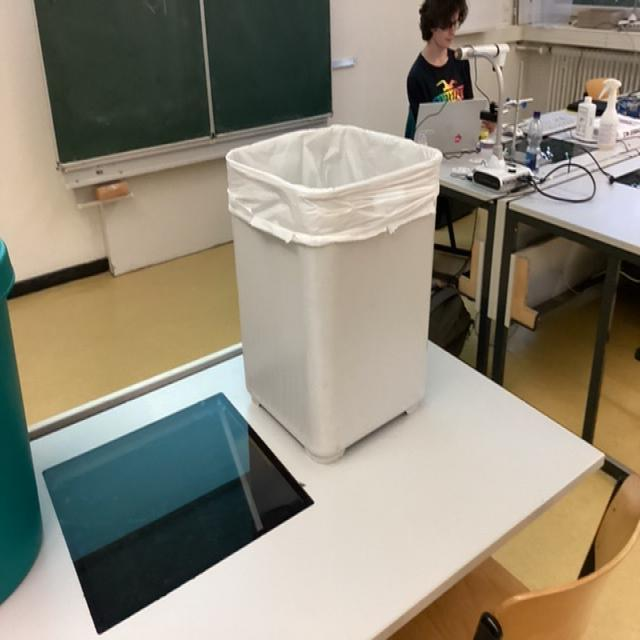garbage container: (218, 111, 450, 463)
